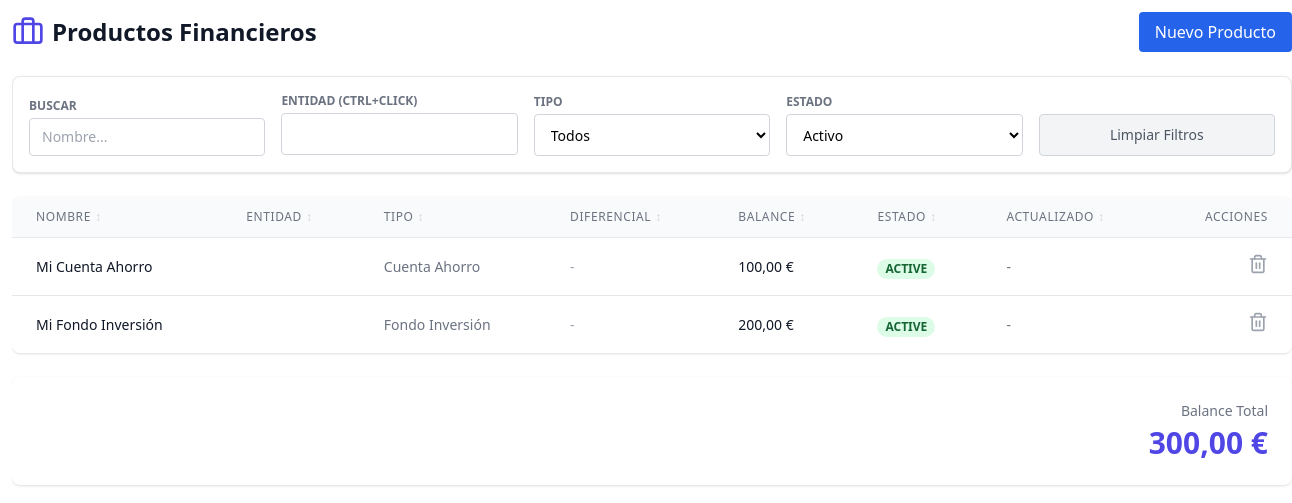
ProductsPage › filters products by name (case insensitive)
This screenshot has width=1292, height=503.
Expected: the text "Mi Cuenta Ahorro" is shown, top-left (12, 238), bottom-right (222, 296)
In the field with placeholder "Nombre...": (147, 137) top-left (29, 118), bottom-right (265, 156), type "fondo"
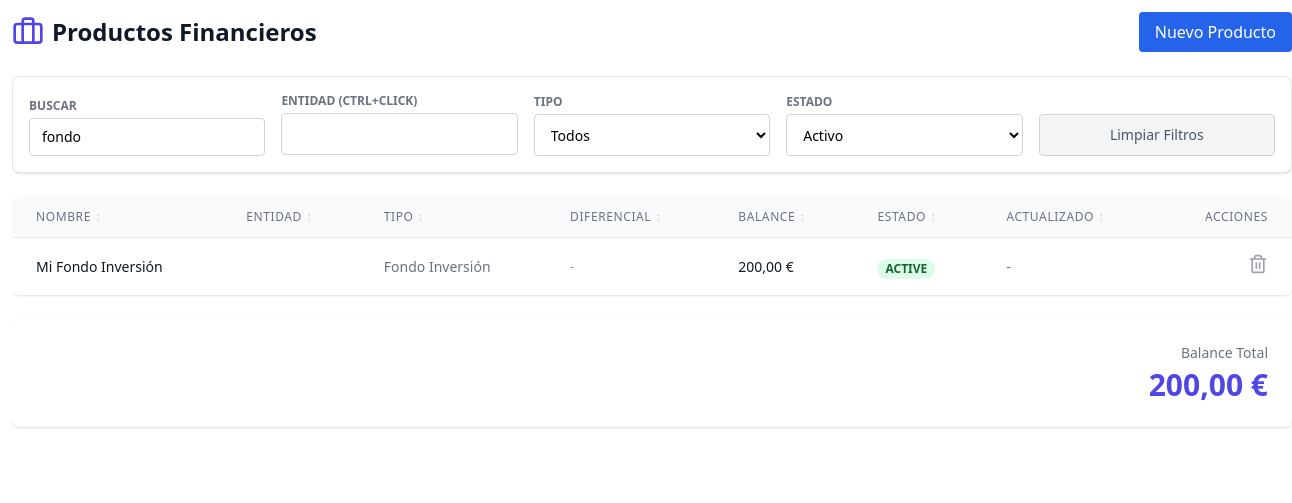
Expected: the text "Mi Fondo Inversión" is shown, top-left (12, 238), bottom-right (222, 295)
Expected: the text "Mi Cuenta Ahorro" is gone
